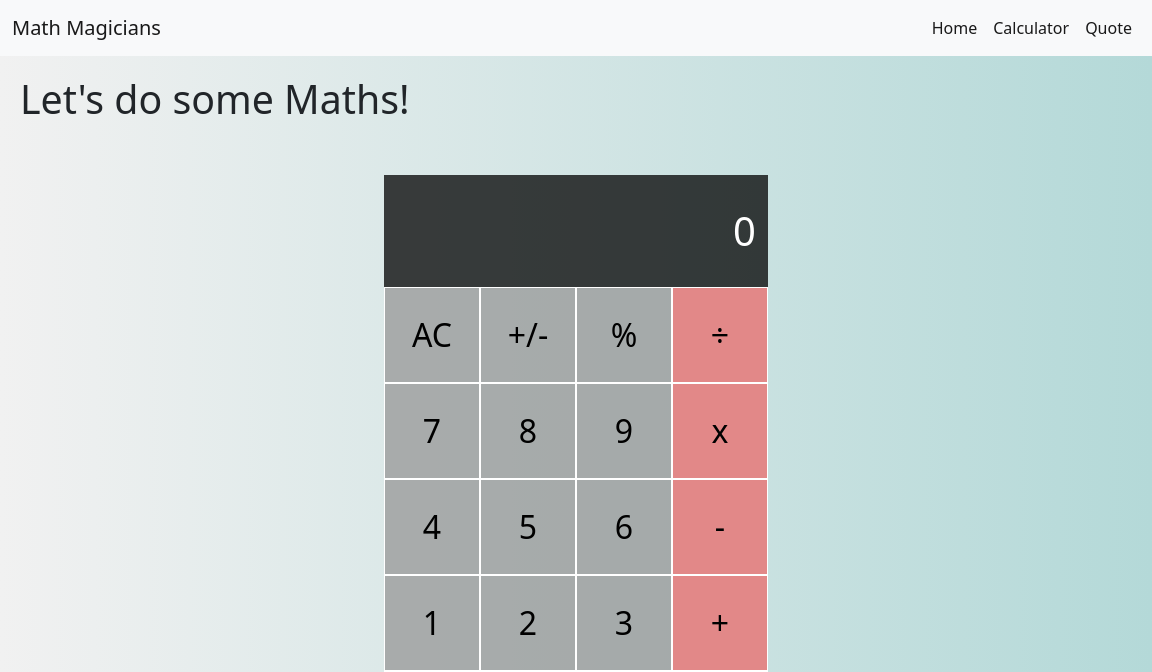
If the click number 4 5, 45 will be printed in calculator
Click the button "4". click: (432, 527)
box: [384,479,480,575]
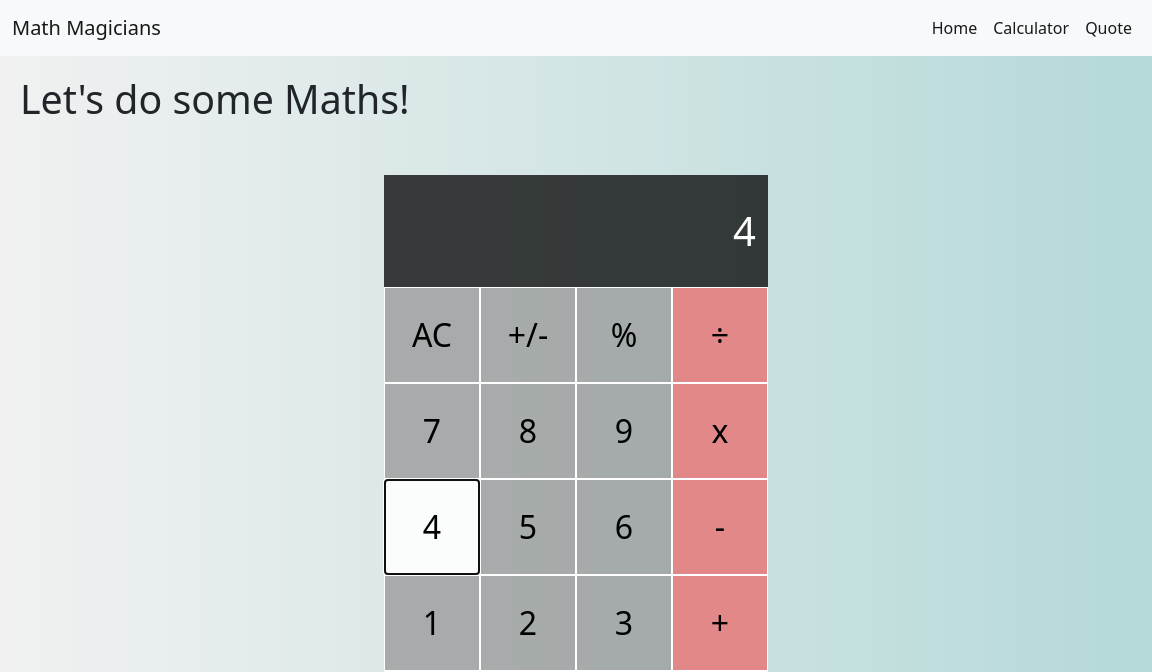
Click the button "5". click: (528, 527)
box: [480,479,576,575]
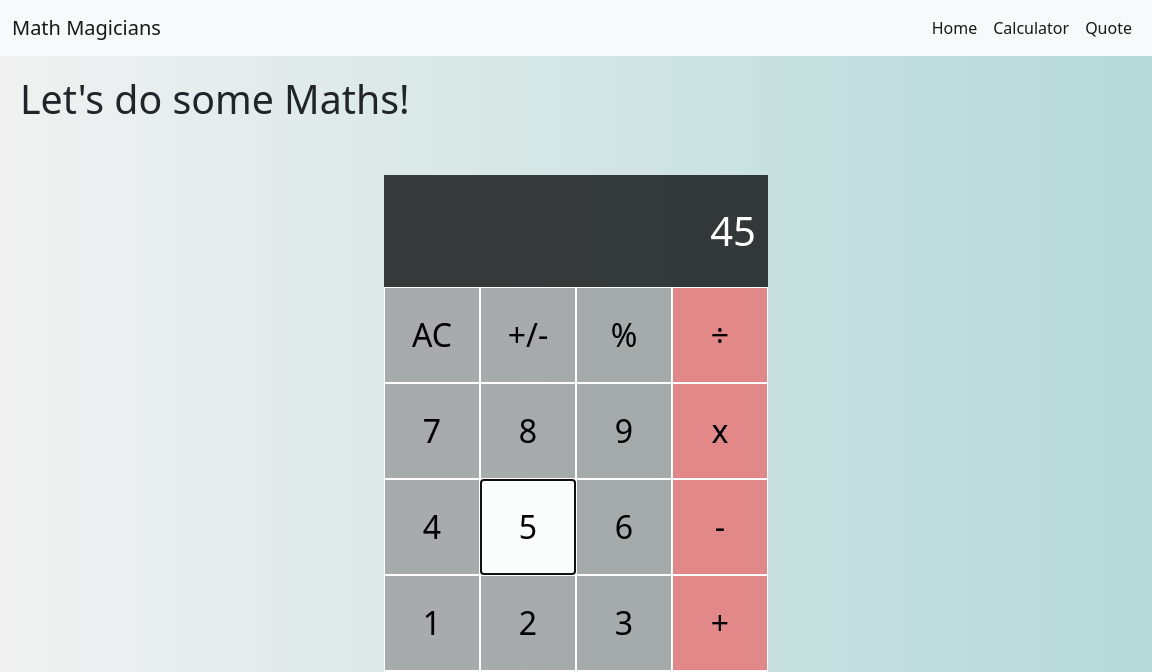
Expected: the text "45" is shown, [710,201,756,261]
